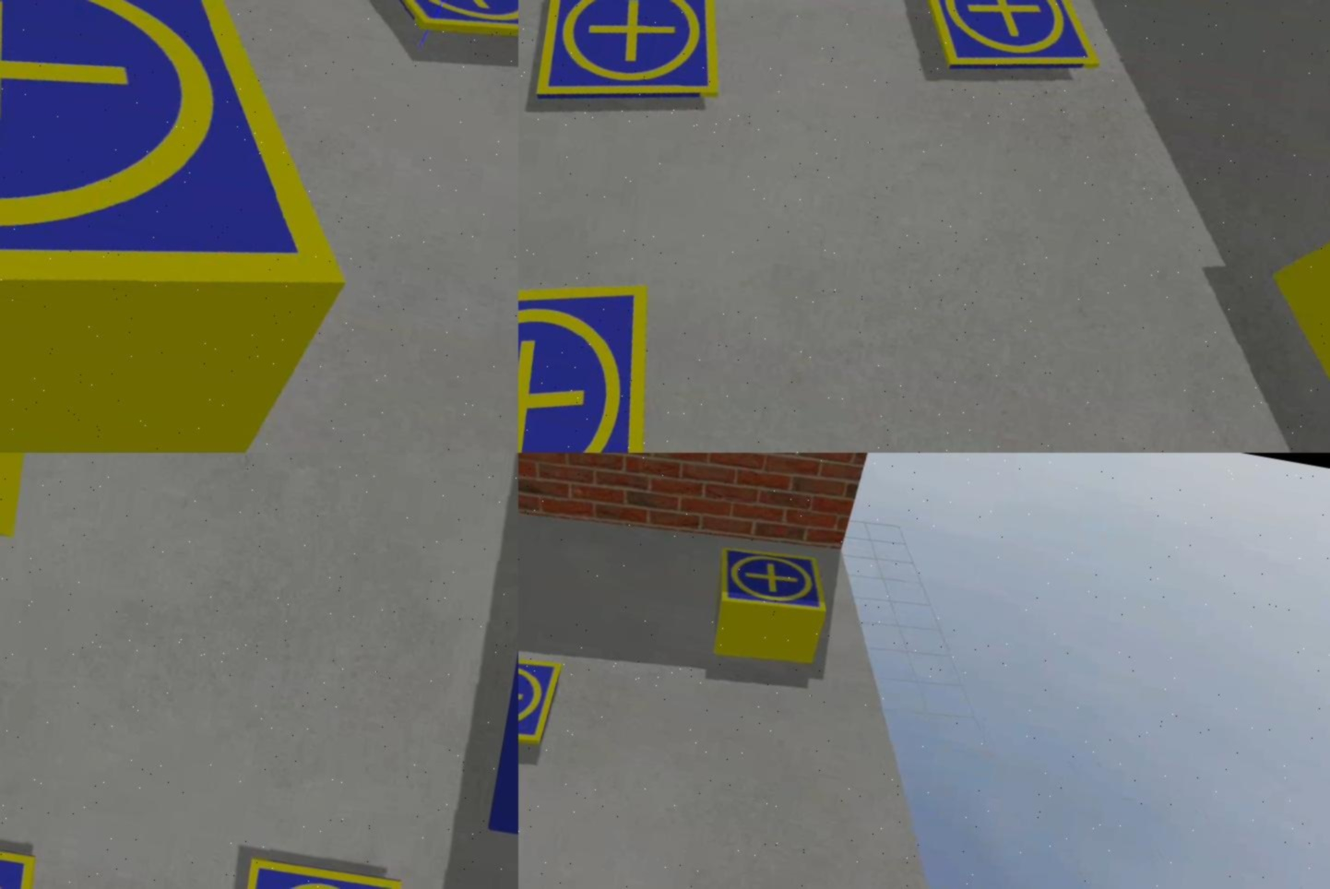small_base: (1, 1, 396, 417), (518, 242, 678, 454), (529, 1, 742, 134), (900, 1, 1114, 91), (713, 539, 838, 620), (350, 1, 518, 58), (226, 853, 406, 889), (518, 646, 560, 756)
